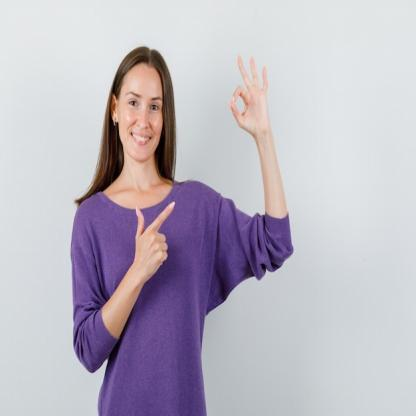ok: (226, 50, 274, 138)
